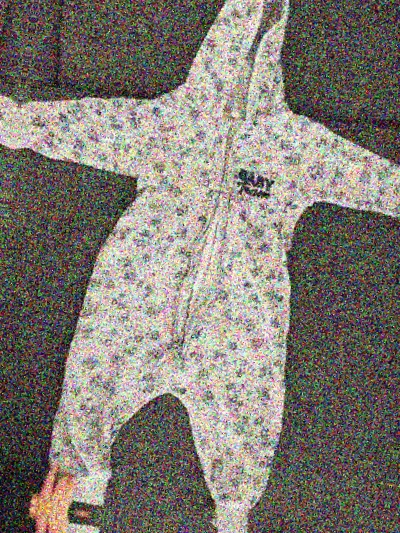Body: (0, 0, 400, 533), (0, 0, 38, 489), (0, 498, 376, 533), (382, 11, 400, 533)
